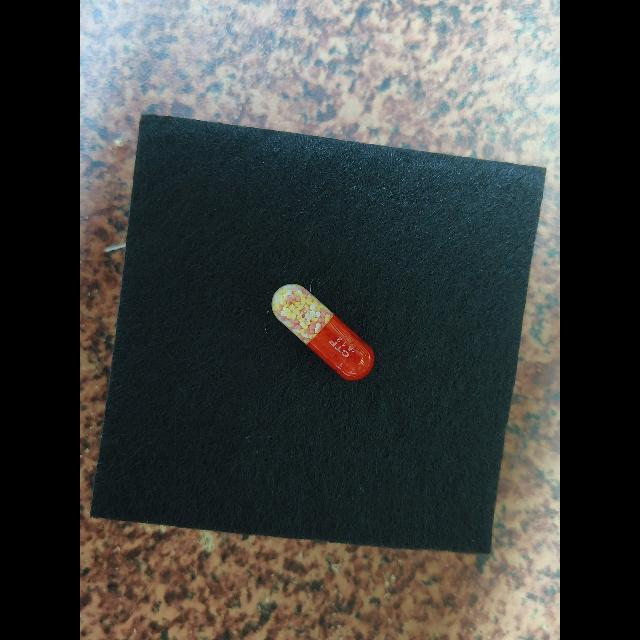Intact Capsule: (272, 283, 375, 381)
